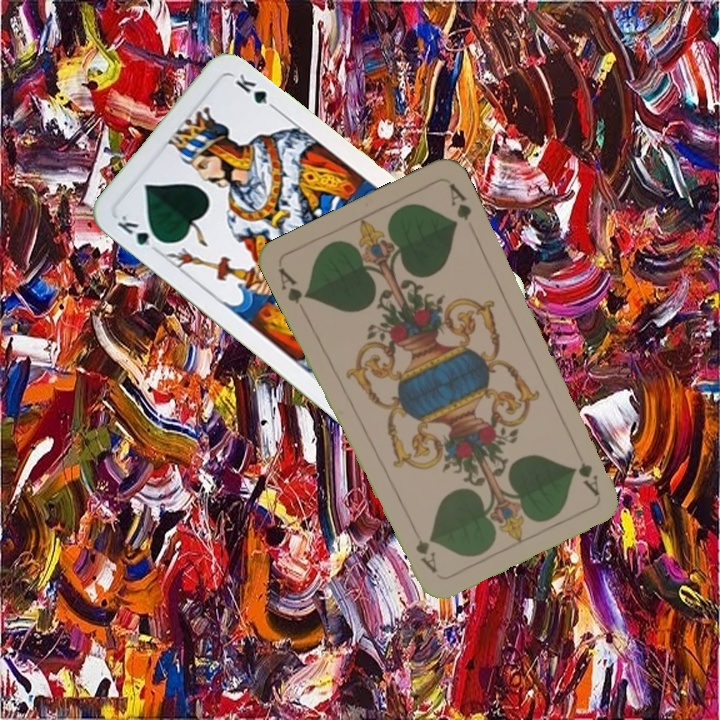GA: (274, 263, 312, 307), (574, 458, 603, 498)
GK: (113, 211, 167, 256)
